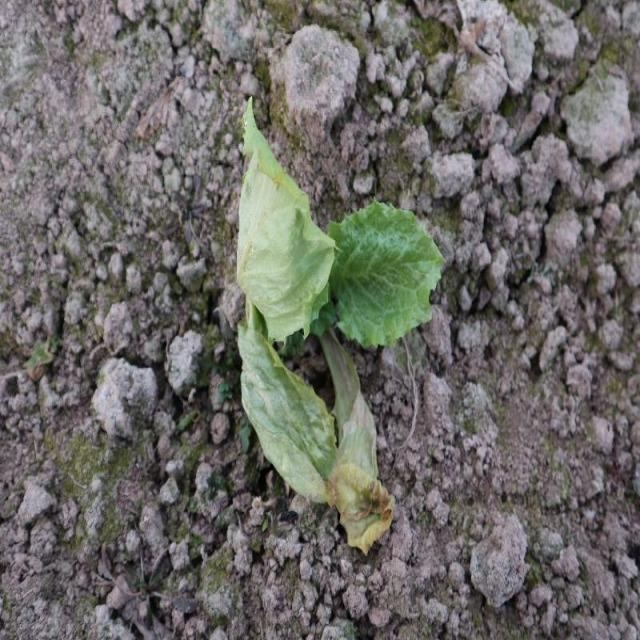crop: (236, 88, 443, 562)
